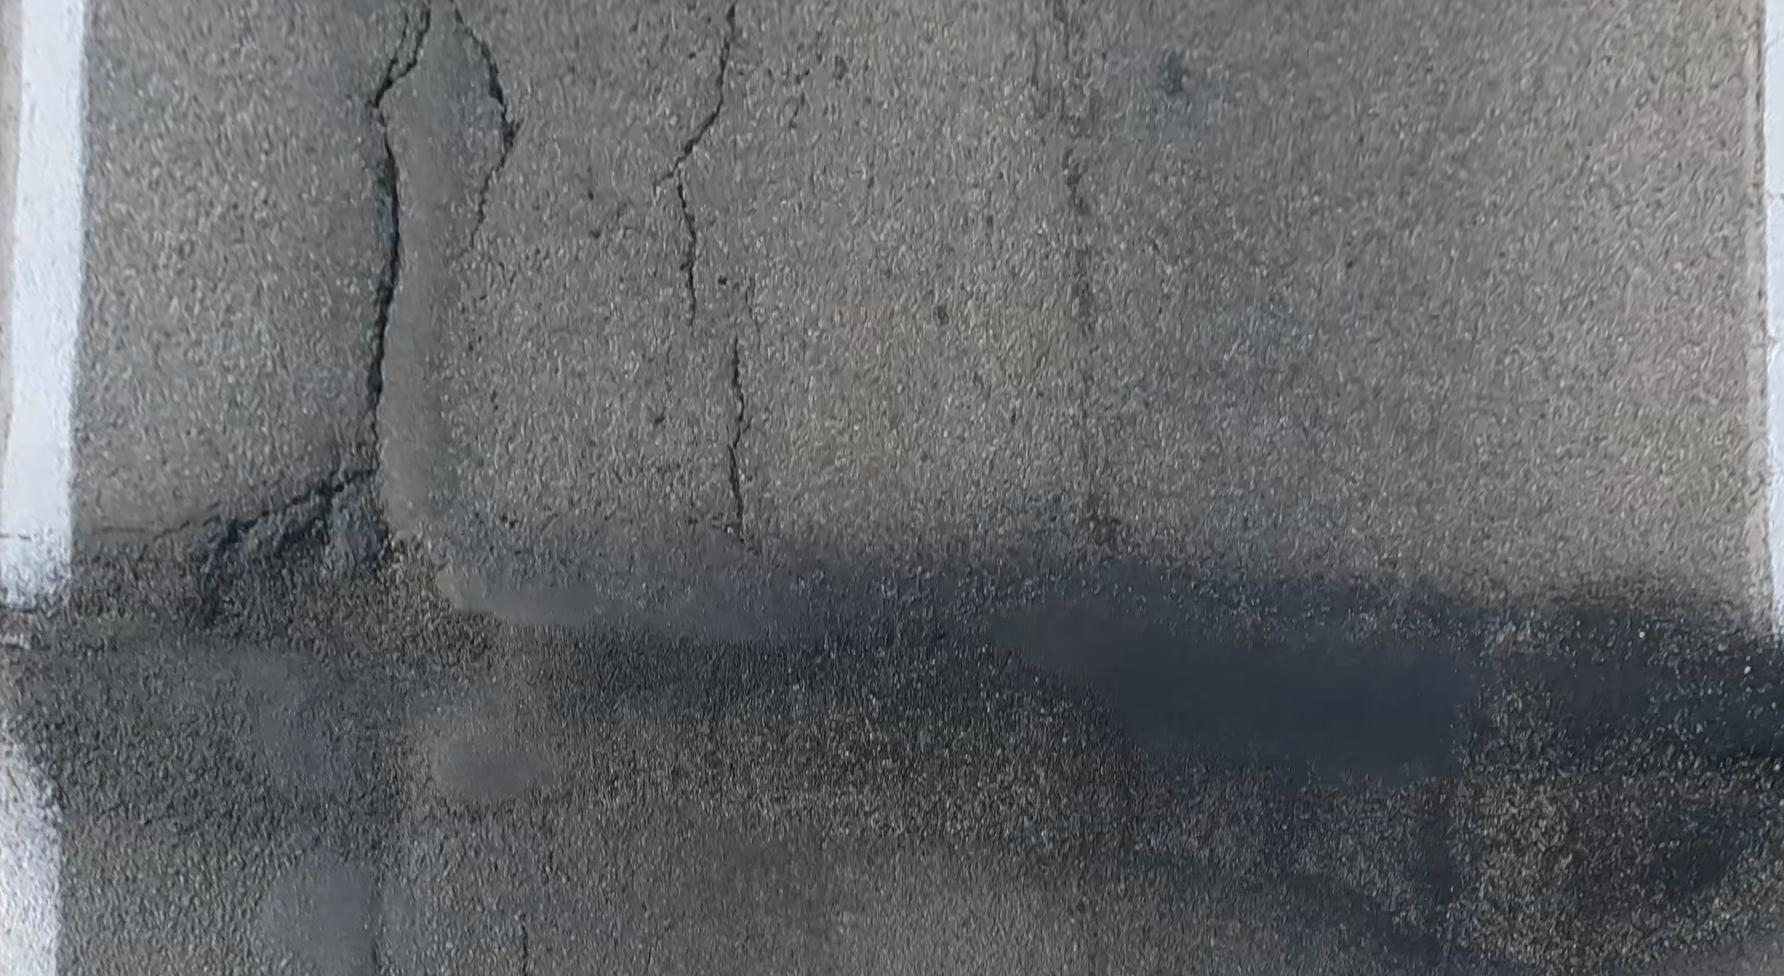pothole_patch_good: (0, 489, 1778, 976)
pothole_patch_poor: (42, 0, 471, 589)
